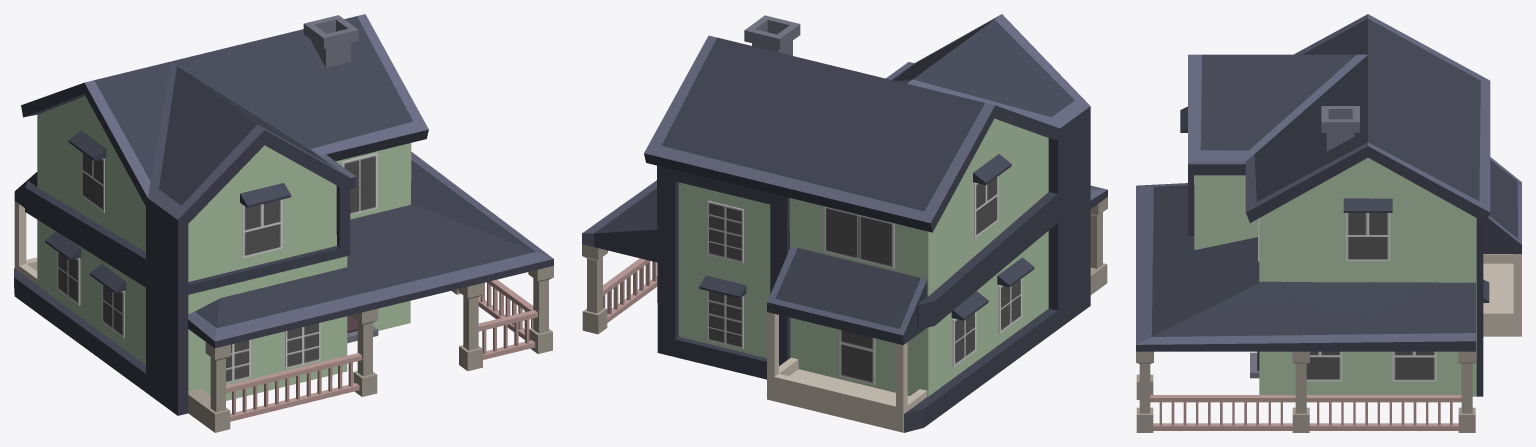
Rendered from house03_color01.fbx.
3 renders of one model, left to right at view 1: azimuth 30°, elevation 25°; view 2: azimuth 150°, elevation 25°; view 3: azimuth 270°, elevation 25°, orthographic. The views are drawn at different scales.
Visible parts, largest first — view 1: house03_color01; view 2: house03_color01; view 3: house03_color01.
Boxes of the visible parts, bbox=[...] form: house03_color01: bbox=[14, 14, 553, 432]; house03_color01: bbox=[582, 14, 1107, 432]; house03_color01: bbox=[1136, 14, 1521, 432].
Bounding box in the file's own units: 1233 × 916 × 1212.
